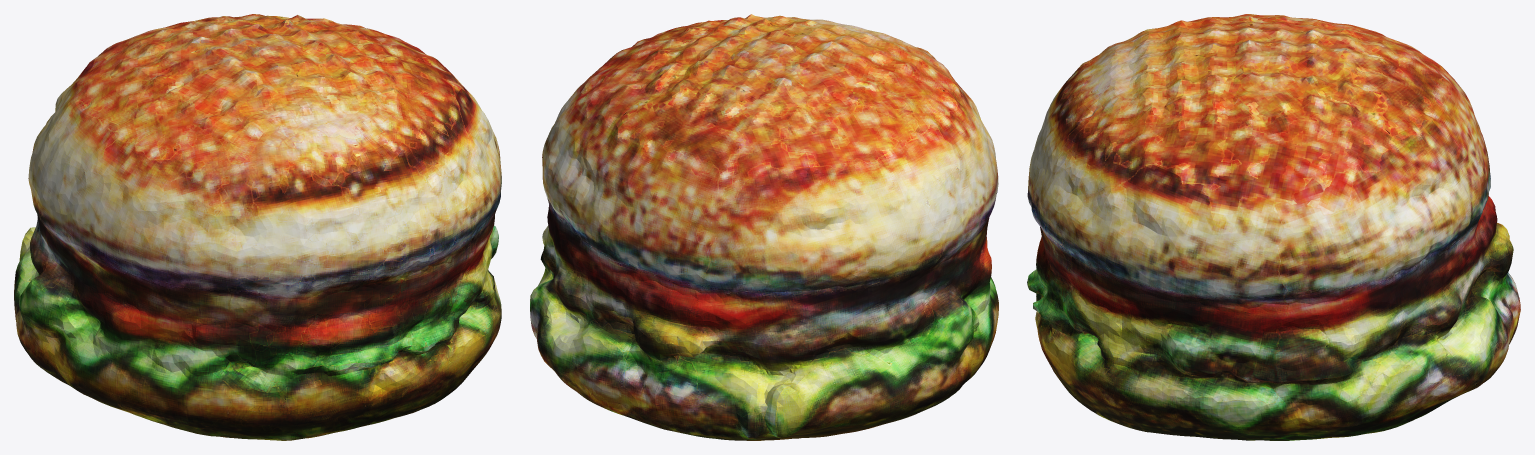
Rendered from a cheeseburger.glb.
The picture shows the model from 3 angles, left to right: view 1: azimuth 30°, elevation 25°; view 2: azimuth 150°, elevation 25°; view 3: azimuth 270°, elevation 25°; orthographic projection. The views are drawn at different scales.
Bounding box in the file's own units: 0.9137 × 0.6693 × 0.9136.
Materials: 1 (1 with a texture image).
